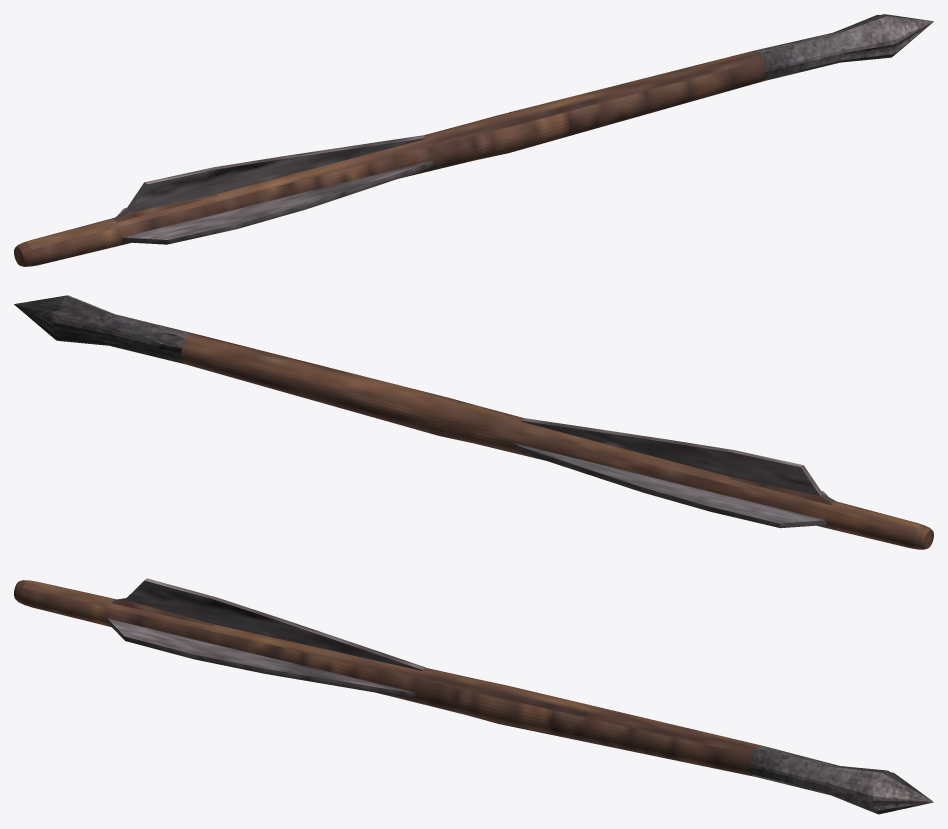
The model's file is CrossbowBolt.fbx.
3 views of the same model, one above another, from view 1: azimuth 30°, elevation 25°; view 2: azimuth 150°, elevation 25°; view 3: azimuth 330°, elevation 25° (orthographic).
Parts seen in each view (by area): view 1: Cylinder; view 2: Cylinder; view 3: Cylinder.
Part boxes in pixels (box(x1,y1,x2,y2)): Cylinder: box(14, 14, 933, 266); Cylinder: box(14, 295, 933, 549); Cylinder: box(14, 578, 933, 814).
Bounding box in the file's own units: 447 × 26.24 × 37.62.
